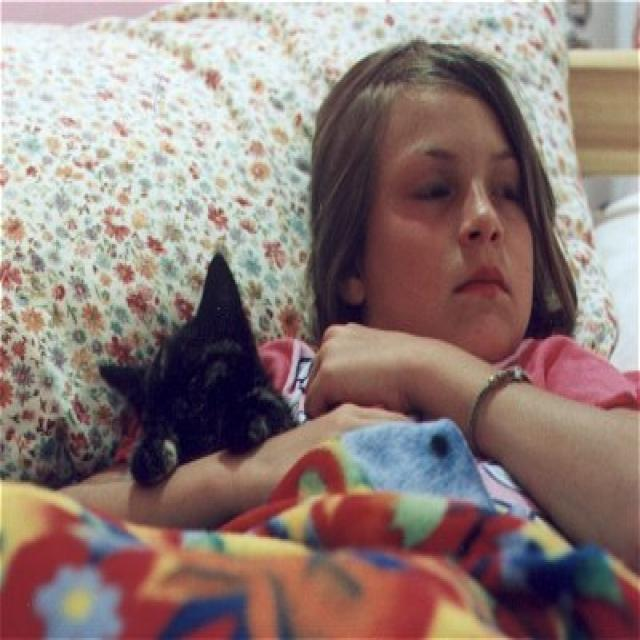cats: (99, 253, 302, 484)
